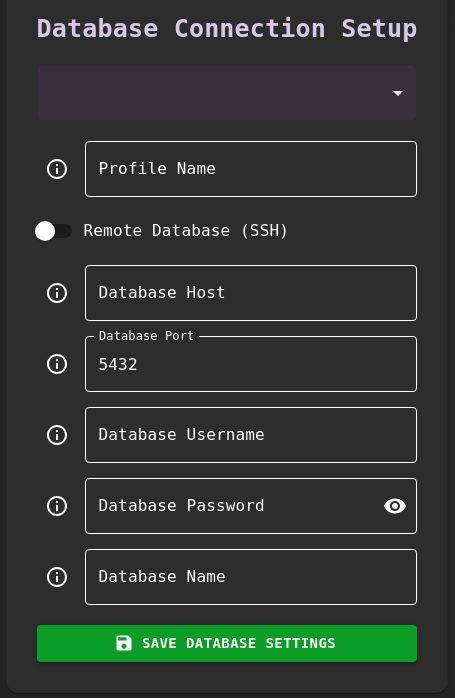
Scenario: DatabaseSetup › resets to an empty object when db_list decrypts to an array
Step 1. Press the mouse on the dropdown → (227, 93), box [36, 65, 417, 121]
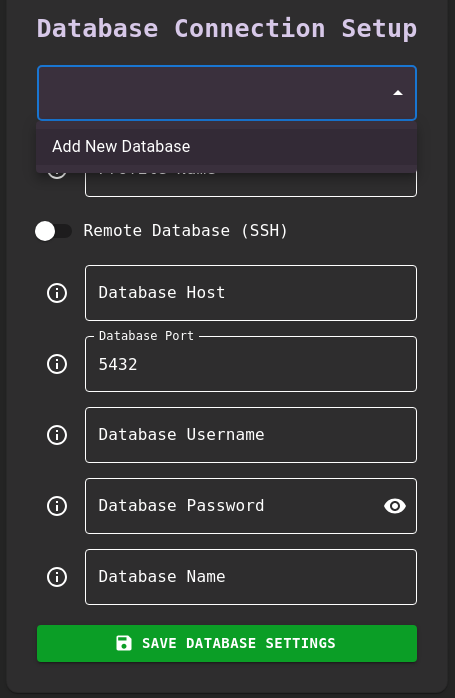
Result: the option "Add New Database" is shown at [36, 129, 417, 165]
